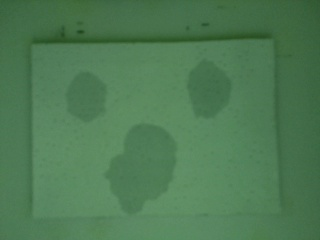Water_detected: (116, 129, 166, 198), (75, 81, 105, 116), (196, 73, 223, 111)
